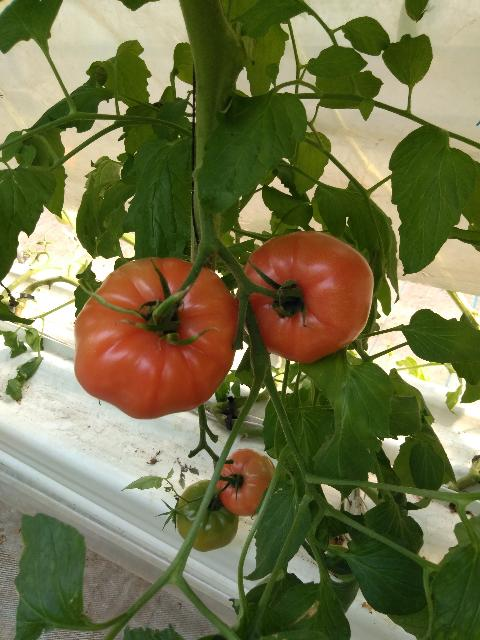b_fully_ripened: (73, 256, 239, 420), (235, 231, 374, 364)
b_green: (176, 479, 239, 552)
b_half_ripened: (216, 449, 276, 516)
